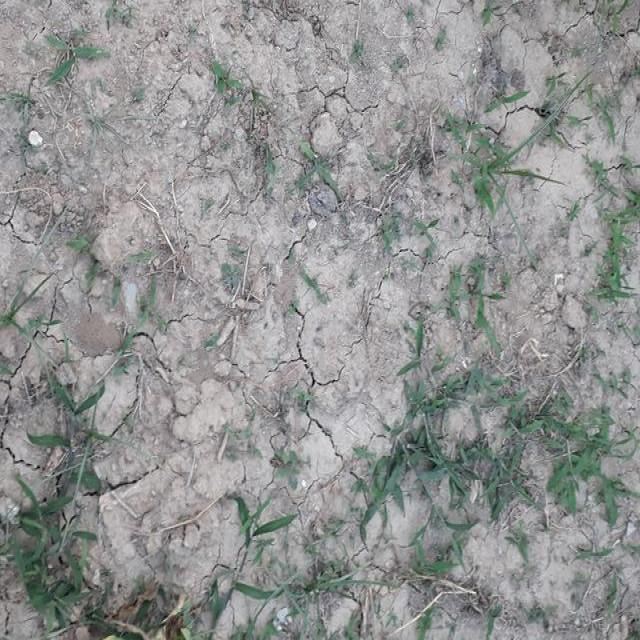weed: (496, 386, 621, 520), (21, 386, 87, 623), (384, 363, 454, 555), (448, 114, 550, 218), (221, 500, 274, 640), (596, 170, 638, 311)
